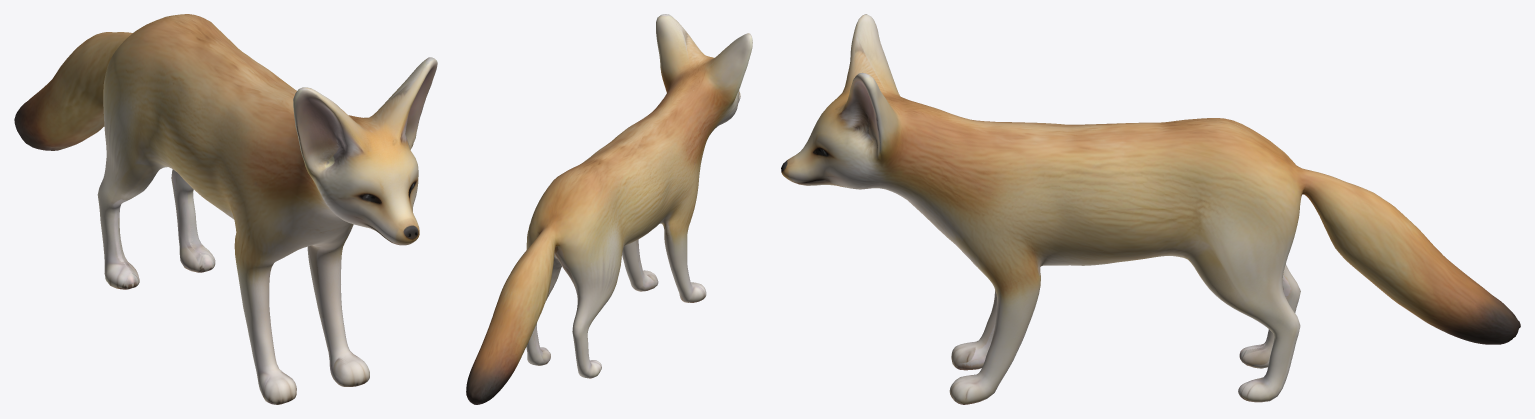
The model's file is Little_Fox_0326120848_texture.fbx.
The picture shows the model from 3 angles, left to right: view 1: azimuth 30°, elevation 25°; view 2: azimuth 150°, elevation 25°; view 3: azimuth 270°, elevation 25°; orthographic projection. The views are drawn at different scales.
Visible parts, largest first — view 1: input; view 2: input; view 3: input.
Boxes of the visible parts, box(x1,y1,x2,y2) form: input: box(14, 14, 437, 404); input: box(466, 14, 752, 404); input: box(781, 14, 1520, 404).
Bounding box in the file's own units: 41.65 × 100 × 198.
Materials: 1 (1 with a texture image).
